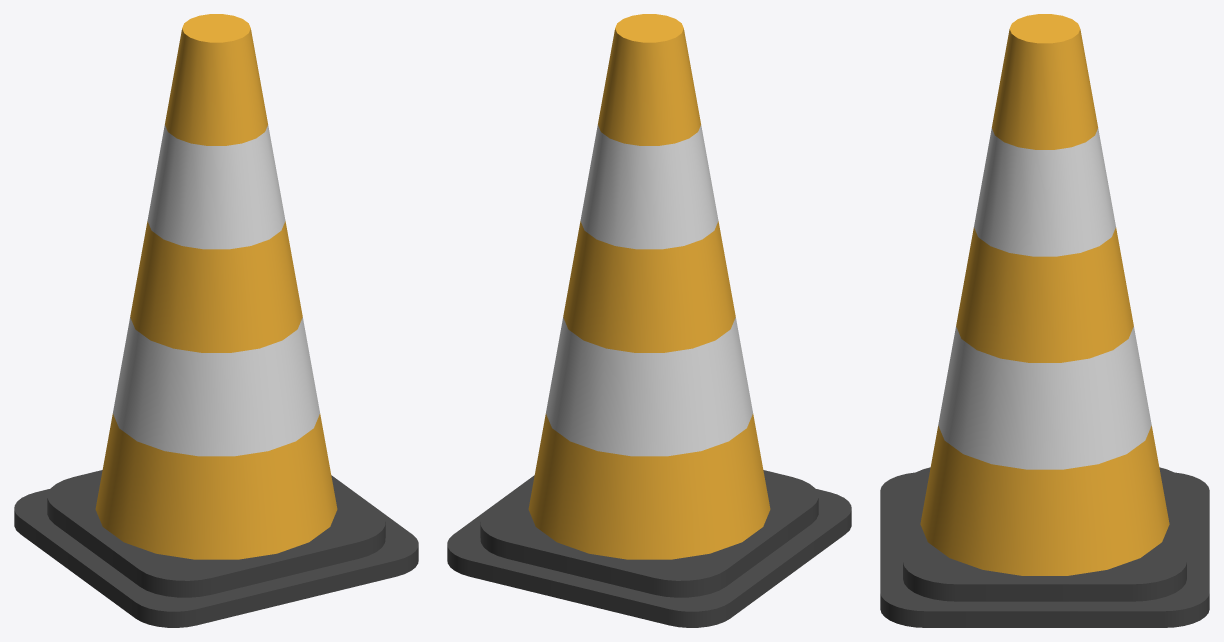
The picture shows the model from 3 angles, left to right: view 1: azimuth 30°, elevation 25°; view 2: azimuth 150°, elevation 25°; view 3: azimuth 270°, elevation 25°; orthographic projection. The views are drawn at different scales.
Visible parts, largest first — view 1: Cone C; view 2: Cone C; view 3: Cone C.
Part boxes in pixels (left/top/right/bottom): Cone C: left=14, top=14, right=418, bottom=627; Cone C: left=447, top=14, right=851, bottom=627; Cone C: left=880, top=14, right=1209, bottom=627.
Size of the model in its own units: 77.71 by 138 by 77.71.
